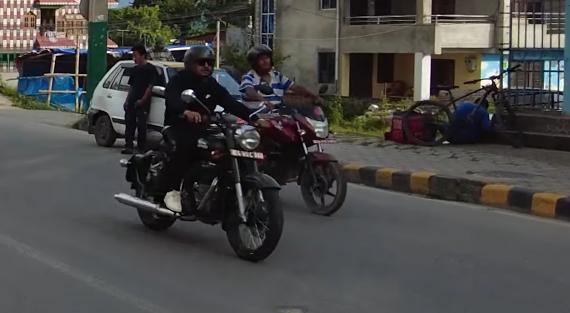bike: (111, 84, 286, 269), (246, 77, 351, 219)
